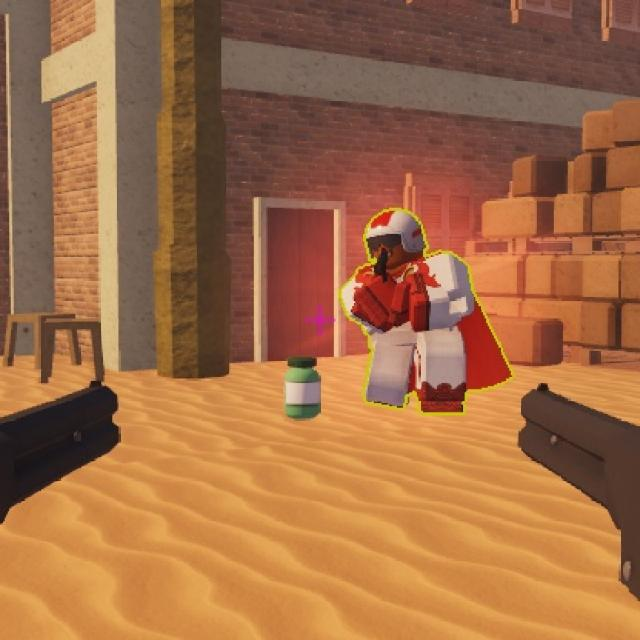player: (334, 203, 488, 422)
